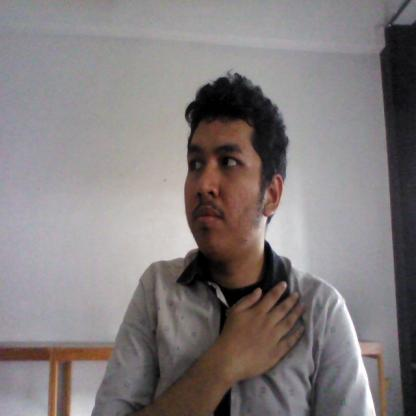Saya: (204, 278, 317, 390)
